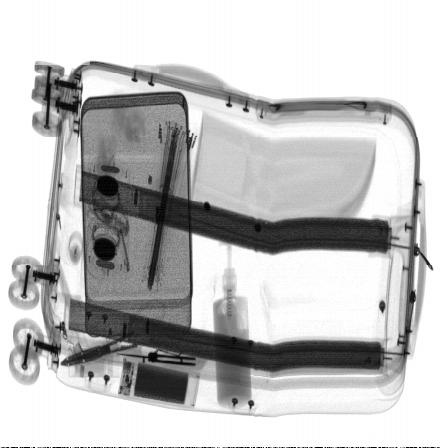Knife: (117, 345, 197, 371)
Powerbank: (116, 349, 201, 407)
Scissors: (58, 297, 171, 369)
